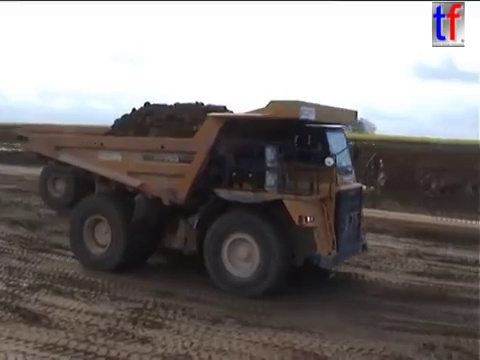truck: (23, 97, 388, 299), (14, 112, 275, 216)
